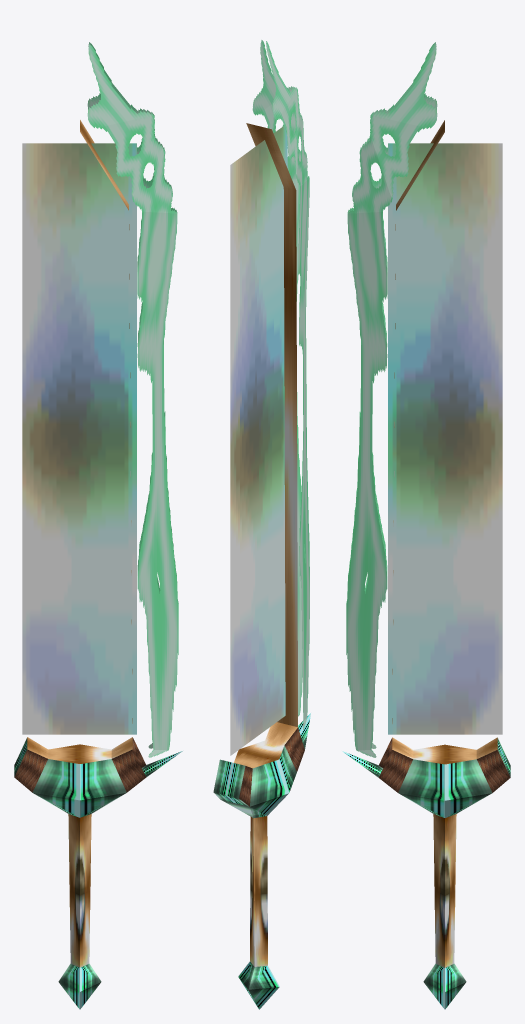
The model's file is heavyblade05.obj.
The picture shows the model from 3 angles, left to right: view 1: azimuth 90°, elevation 25°; view 2: azimuth 150°, elevation 25°; view 3: azimuth 270°, elevation 25°; orthographic projection.
Parts seen in each view (by area): view 1: MDL_cw2hsw05; view 2: MDL_cw2hsw05; view 3: MDL_cw2hsw05.
Boxes of the visible parts, x1,y1,x2,y2 form: MDL_cw2hsw05: (14, 42, 182, 1009); MDL_cw2hsw05: (213, 40, 310, 1009); MDL_cw2hsw05: (342, 42, 510, 1009).
Bounding box in the file's own units: 0.1213 × 1.9 × 0.295.
